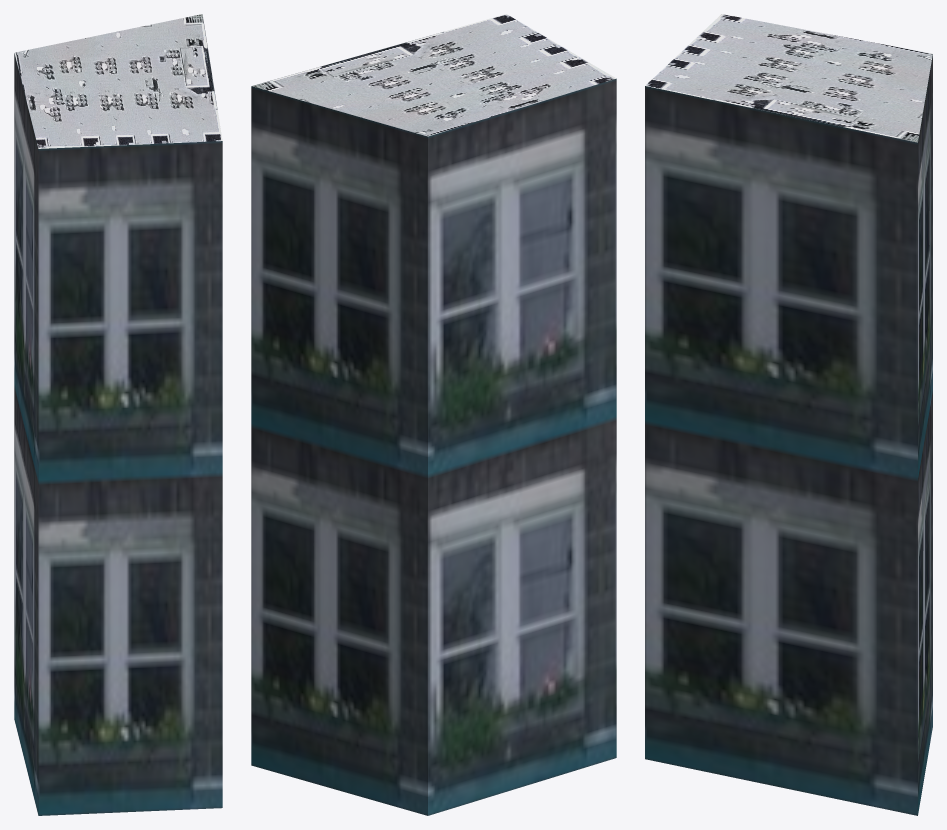
File: ResTex__889.fbx
The picture shows the model from 3 angles, left to right: view 1: azimuth 30°, elevation 25°; view 2: azimuth 150°, elevation 25°; view 3: azimuth 270°, elevation 25°; orthographic projection.
Parts seen in each view (by area): view 1: CityEngineMaterial_11_m, CityEngineMaterial_4_m; view 2: CityEngineMaterial_11_m, CityEngineMaterial_4_m; view 3: CityEngineMaterial_11_m, CityEngineMaterial_4_m.
Part boxes in pixels (x1,y1,x2,y2): CityEngineMaterial_11_m: (14, 53, 222, 815); CityEngineMaterial_4_m: (14, 14, 222, 148); CityEngineMaterial_11_m: (251, 78, 616, 815); CityEngineMaterial_4_m: (251, 14, 615, 136); CityEngineMaterial_11_m: (645, 54, 932, 815); CityEngineMaterial_4_m: (645, 14, 932, 142).
Bounding box in the file's own units: 2.46 × 6 × 2.32.
2 materials, 2 textured.
